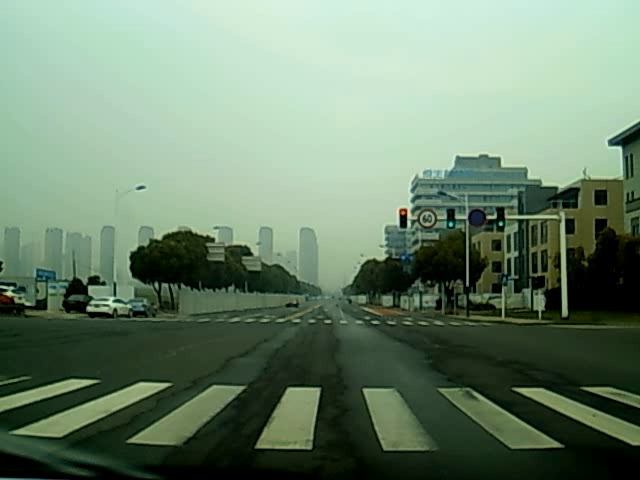Traffic_Light_go: (495, 207, 503, 234), (446, 209, 455, 230)
Traffic_Light_stop: (399, 209, 408, 233)
